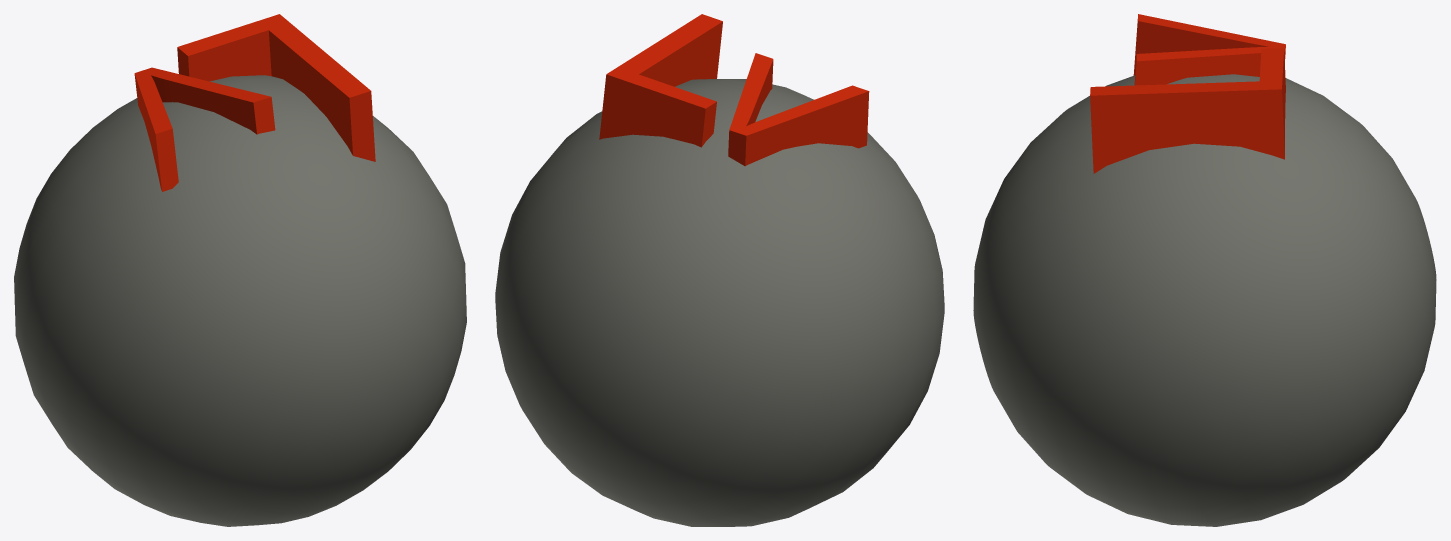
3 views of the same model, side by side, from view 1: azimuth 30°, elevation 25°; view 2: azimuth 150°, elevation 25°; view 3: azimuth 270°, elevation 25° (orthographic). The views are drawn at different scales.
Parts seen in each view (by area): view 1: Tc001, Object013, Object014; view 2: Tc001, Object013, Object014; view 3: Tc001, Object013, Object014.
Boxes of the visible parts, x1=… form: Tc001: x1=14, y1=75, x2=466, y2=526; Object013: x1=177, y1=14, x2=375, y2=161; Object014: x1=134, y1=67, x2=275, y2=191; Tc001: x1=495, y1=79, x2=944, y2=526; Object013: x1=599, y1=14, x2=722, y2=147; Object014: x1=728, y1=53, x2=869, y2=166; Tc001: x1=973, y1=74, x2=1436, y2=526; Object013: x1=1090, y1=48, x2=1285, y2=173; Object014: x1=1133, y1=14, x2=1285, y2=85.
Size of the model in its own units: 38.62 by 41.73 by 38.64.
